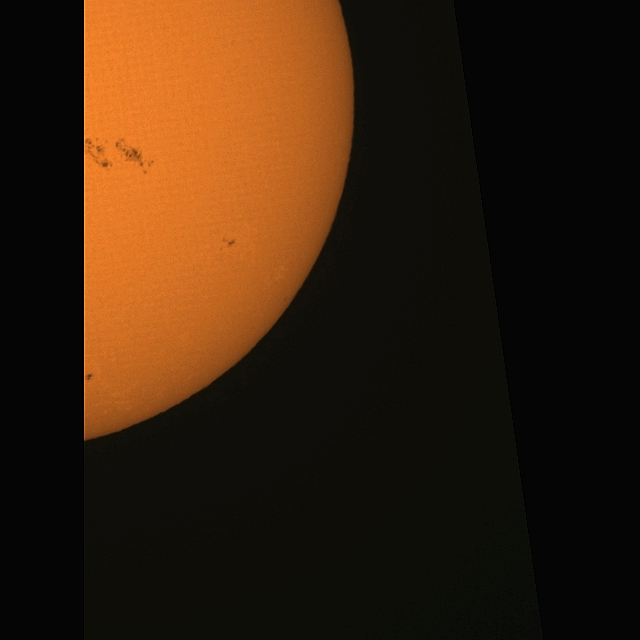sunspot: (81, 135, 134, 170), (110, 137, 154, 176), (220, 235, 236, 251), (85, 372, 94, 382)
